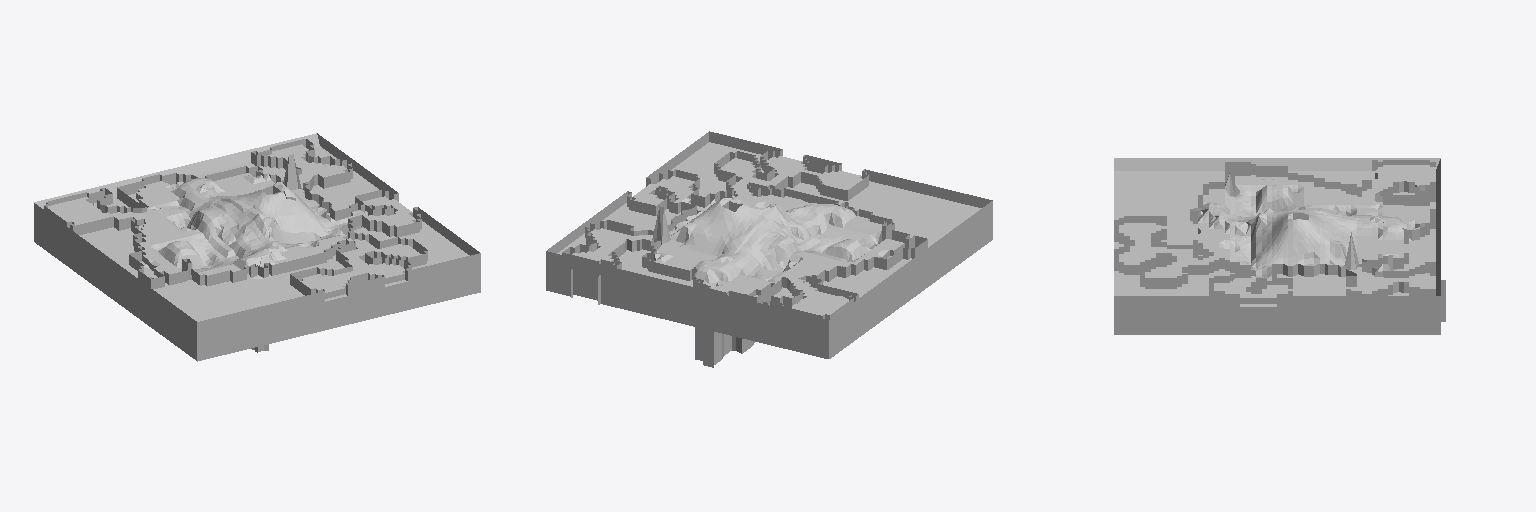
The model's file is ffarena.obj.
3 views of the same model, side by side, from view 1: azimuth 30°, elevation 25°; view 2: azimuth 150°, elevation 25°; view 3: azimuth 270°, elevation 25° (orthographic).
Visible parts, largest first — view 1: FFArena; view 2: FFArena; view 3: FFArena.
Boxes of the visible parts, box(x1,y1,x2,y2) form: FFArena: box(34, 133, 480, 361); FFArena: box(546, 131, 992, 367); FFArena: box(1114, 158, 1445, 334).
Bounding box in the file's own units: 62 × 24.25 × 63.